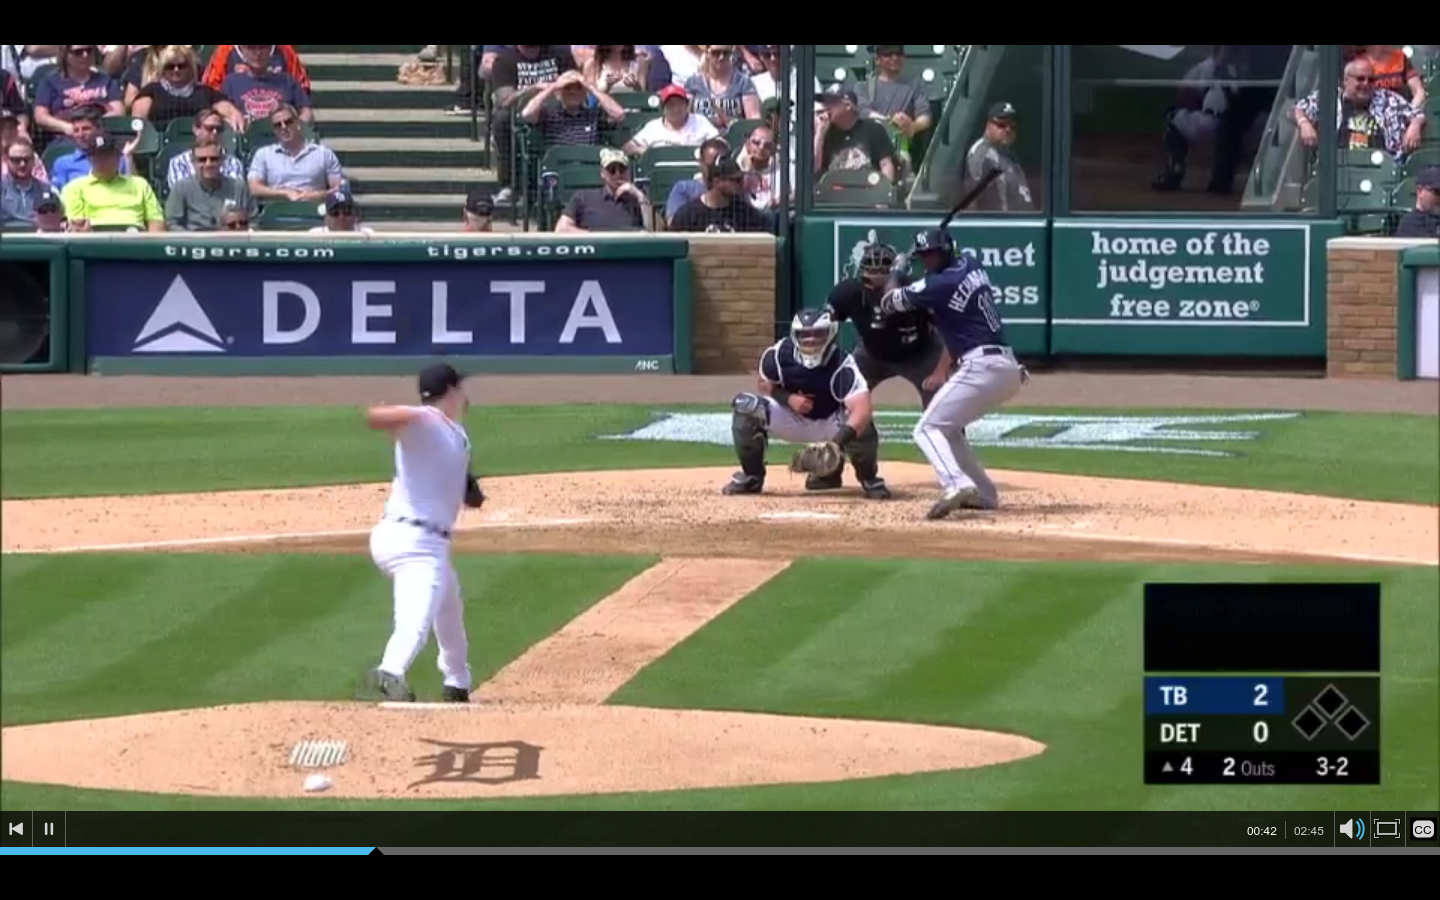baseball bat: (939, 162, 1004, 232)
baseball player: (345, 363, 504, 706), (882, 236, 1021, 531), (719, 308, 890, 508)
referee: (825, 242, 958, 505)
